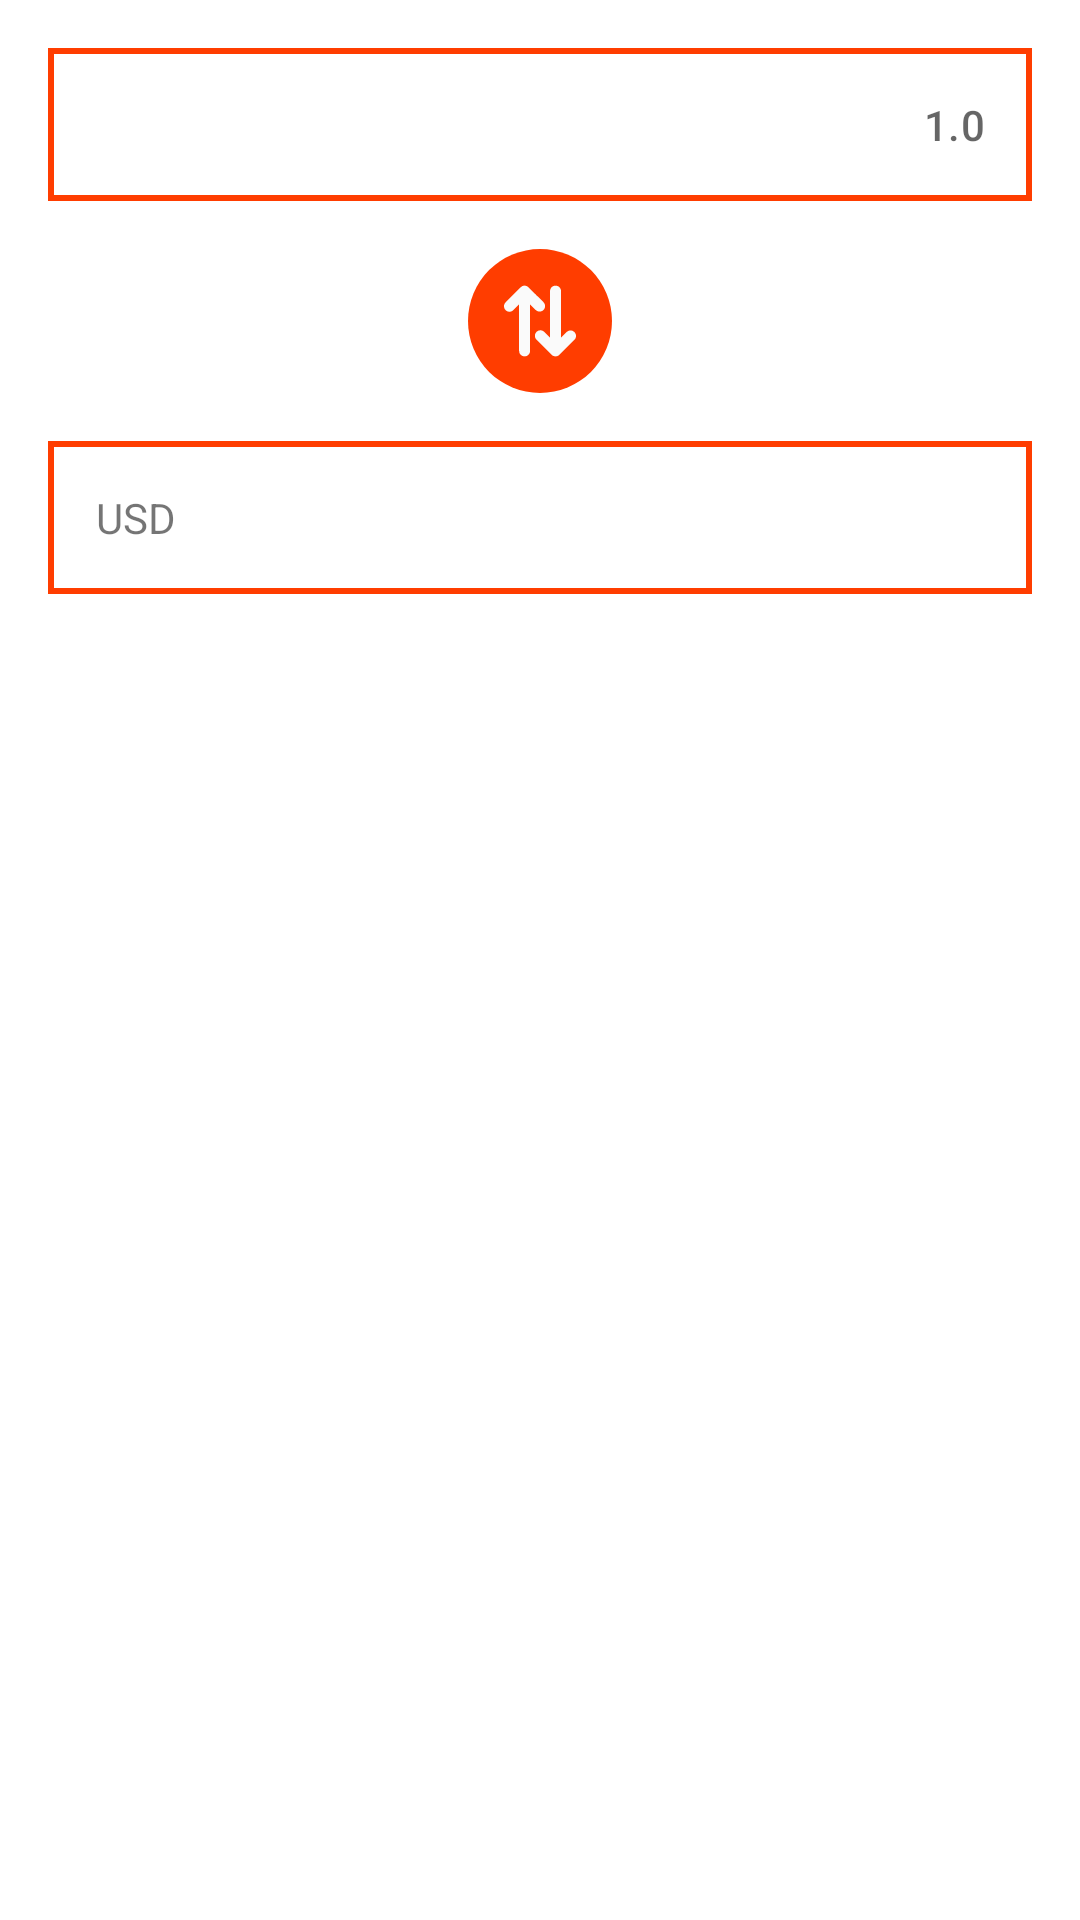

Icons on this 1080*1920 Android screen, each with the point to tap as [x,y]:
convert: [540,321]
